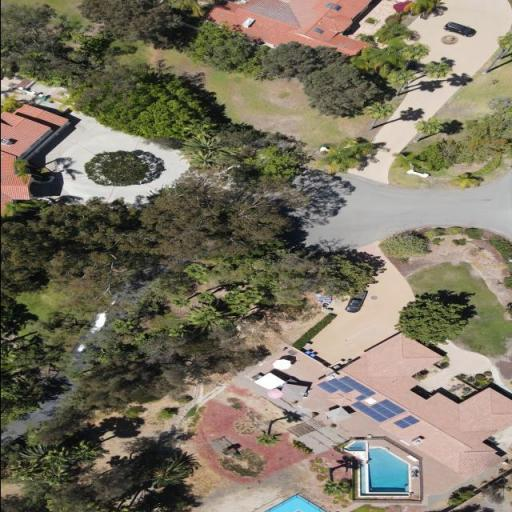solar-panel: (315, 375, 376, 401), (350, 399, 406, 423), (392, 415, 420, 429)
